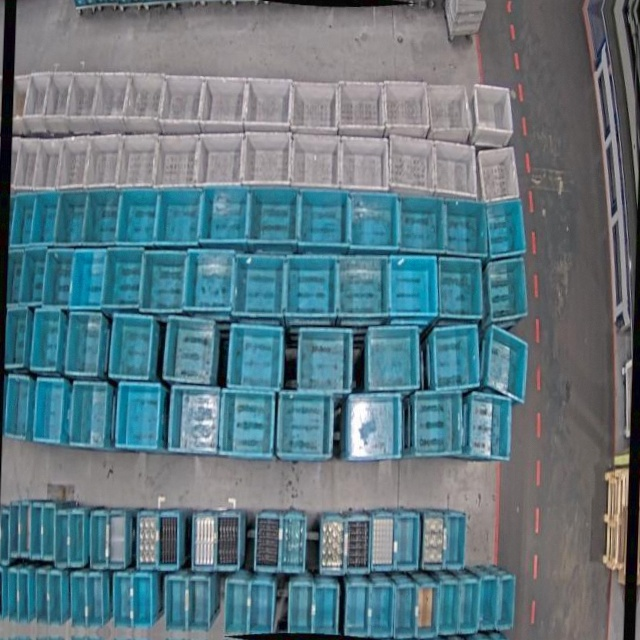Box: (364, 324, 424, 394), (226, 321, 285, 390), (346, 393, 405, 461), (219, 388, 275, 459), (164, 315, 218, 388), (297, 326, 354, 395), (277, 392, 335, 459), (484, 323, 530, 407), (411, 386, 464, 458), (429, 324, 483, 393), (336, 254, 391, 320), (464, 391, 515, 462), (436, 253, 487, 324), (230, 254, 287, 317), (386, 254, 441, 319), (284, 256, 340, 319), (247, 184, 300, 250), (169, 386, 220, 454), (297, 186, 351, 249), (440, 197, 492, 261), (483, 256, 531, 325), (430, 141, 481, 205), (184, 248, 233, 314), (348, 190, 400, 252), (109, 313, 156, 381), (141, 248, 189, 314), (199, 186, 250, 248), (396, 194, 447, 256), (116, 381, 161, 451), (388, 134, 436, 199), (381, 79, 432, 139), (426, 80, 474, 142), (338, 137, 390, 194), (241, 129, 291, 188), (484, 198, 530, 262), (338, 78, 386, 138), (154, 185, 201, 246), (476, 145, 523, 206), (101, 247, 145, 312), (291, 131, 340, 189), (291, 76, 340, 133), (201, 74, 247, 133), (196, 132, 242, 190), (124, 70, 165, 134), (244, 74, 292, 128), (160, 73, 203, 133), (70, 383, 109, 449), (472, 85, 513, 147), (66, 311, 104, 376), (155, 132, 198, 189), (117, 135, 159, 190), (70, 249, 106, 312), (118, 188, 158, 244), (31, 308, 64, 374), (83, 134, 123, 188), (83, 188, 121, 244), (34, 378, 66, 443), (66, 73, 99, 135), (95, 72, 127, 133), (4, 374, 32, 442), (56, 135, 90, 191), (54, 188, 87, 245), (419, 505, 446, 570), (43, 248, 73, 306), (42, 71, 70, 133), (394, 510, 421, 574), (29, 187, 59, 244), (320, 513, 347, 575), (23, 72, 50, 133), (255, 511, 281, 573), (191, 513, 218, 572), (215, 510, 242, 569), (281, 512, 307, 573), (19, 249, 47, 305), (14, 136, 42, 192), (344, 581, 371, 639), (156, 508, 181, 570), (371, 511, 396, 572), (184, 577, 212, 631), (5, 305, 29, 368), (347, 515, 372, 575), (442, 512, 467, 572), (33, 138, 63, 188), (224, 580, 249, 638), (89, 509, 112, 572), (135, 510, 159, 570), (287, 582, 315, 633), (370, 582, 394, 640), (163, 577, 188, 632), (249, 579, 274, 634), (415, 584, 440, 639), (129, 574, 153, 629), (108, 509, 130, 569), (111, 573, 134, 629), (394, 584, 417, 640), (314, 584, 339, 635), (11, 193, 34, 248), (69, 573, 90, 630), (438, 581, 460, 635), (85, 572, 105, 629), (498, 575, 518, 631), (54, 507, 72, 569), (46, 569, 65, 626), (478, 575, 498, 629), (460, 580, 480, 633), (34, 570, 52, 628), (6, 249, 24, 307), (41, 501, 58, 561), (13, 75, 30, 135), (70, 510, 87, 568), (16, 570, 32, 625), (20, 500, 34, 560), (6, 568, 21, 623), (0, 505, 13, 565), (31, 501, 44, 561), (10, 501, 23, 555), (0, 566, 7, 619)
